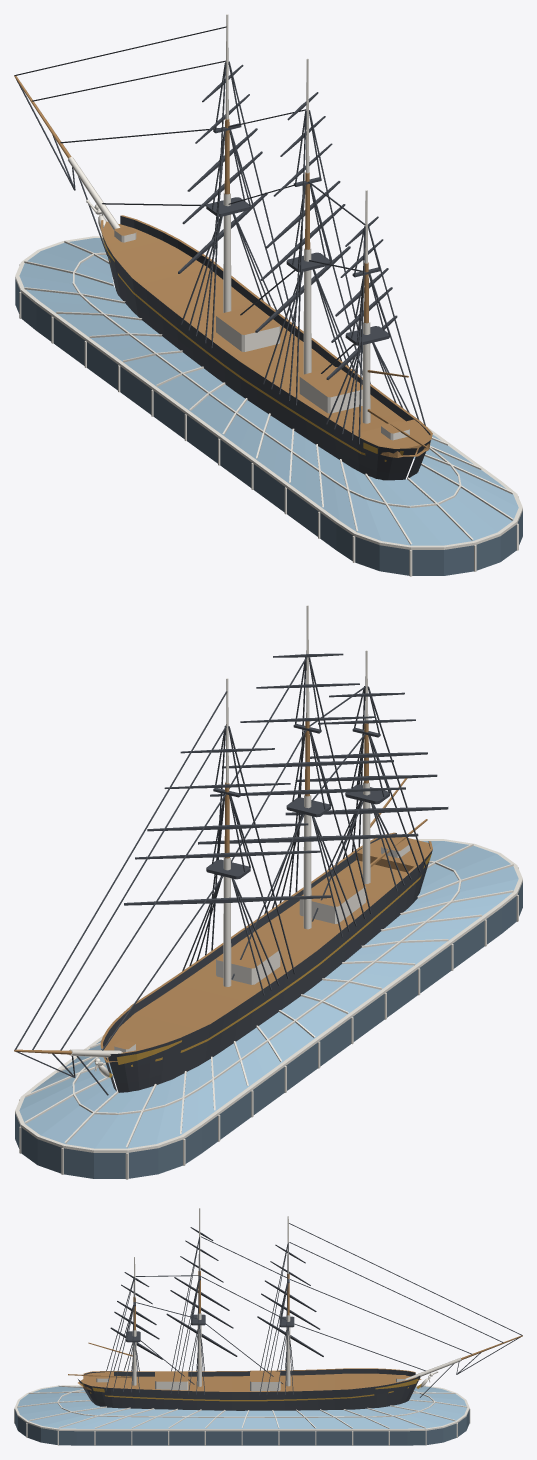
The model's file is london-cutty-sark.glb.
3 views of the same model, one above another, from view 1: azimuth 30°, elevation 25°; view 2: azimuth 150°, elevation 25°; view 3: azimuth 270°, elevation 25° (orthographic). The views are drawn at different scales.
Parts seen in each view (by area): view 1: Cutty Sark; view 2: Cutty Sark; view 3: Cutty Sark.
Part boxes in pixels (x1,y1,x2,y2): Cutty Sark: [14, 14, 522, 576]; Cutty Sark: [14, 605, 522, 1179]; Cutty Sark: [14, 1208, 522, 1445].
Bounding box in the file's own units: 20.88 × 46.3 × 99.34.
